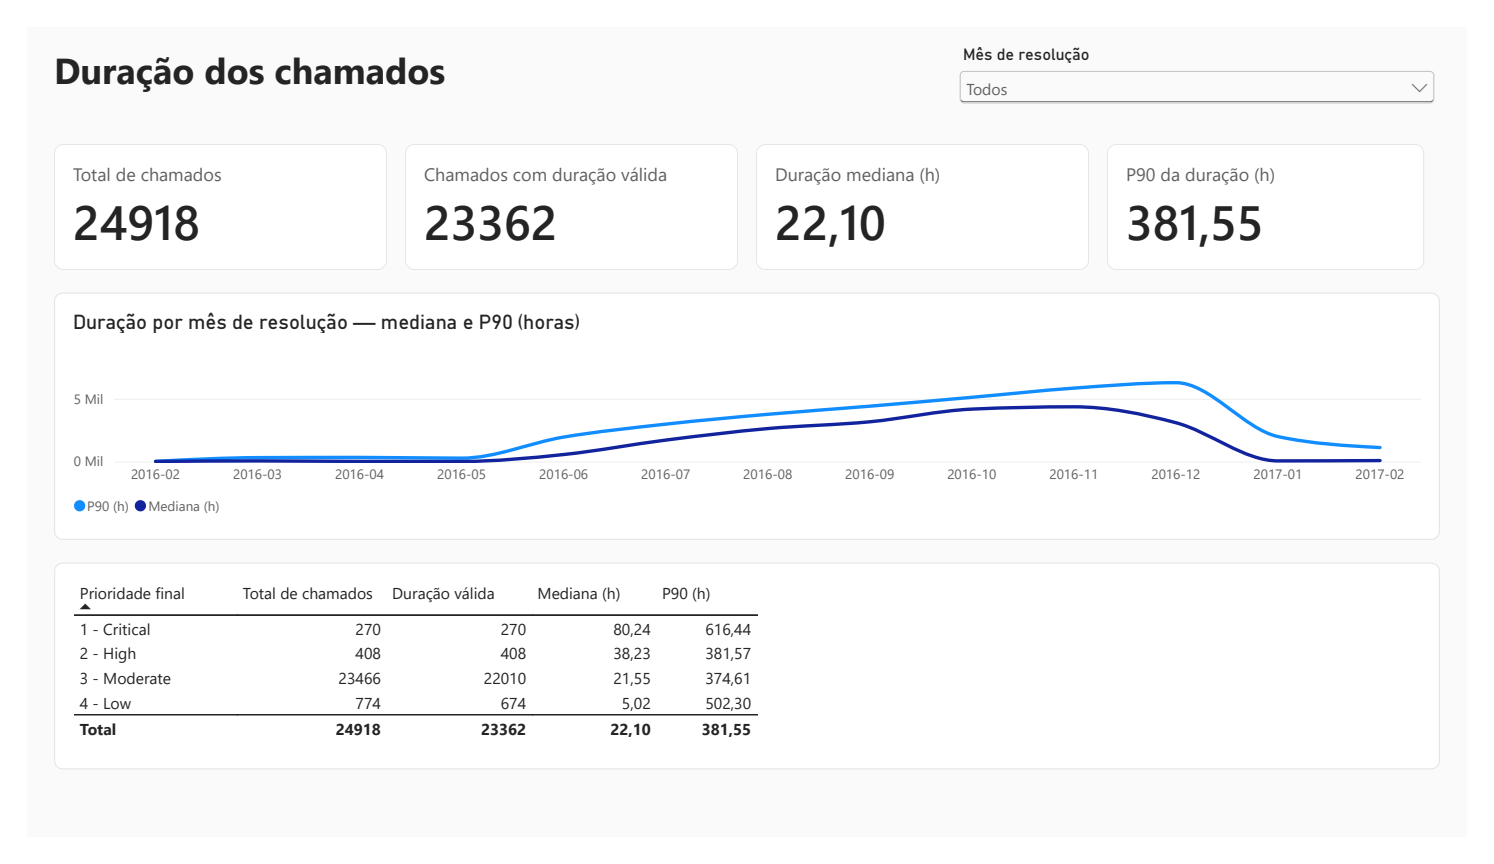

The page's visual inventory and layout, read from the dashboard file:
{"tool":"powerbi","page":{"name":"Duração","canvas":[1280,720],"ordinal":0},"visuals":[{"type":"cardVisual","fields":{"Data":["Chamados.Total de Chamados"]},"box":[24,104,296,112],"z":0},{"type":"cardVisual","fields":{"Data":["Chamados.Chamados Elegiveis Duracao"]},"box":[336,104,296,112],"z":1000},{"type":"cardVisual","fields":{"Data":["Chamados.Mediana Duracao Horas"]},"box":[648,104,296,112],"z":2000},{"type":"cardVisual","fields":{"Data":["Chamados.P90 Duracao Horas"]},"box":[960,104,282,112],"z":3000},{"type":"tableEx","fields":{"Values":["Chamados.priority_final","Chamados.Total de Chamados","Chamados.Chamados Elegiveis Duracao","Chamados.Mediana Duracao Horas","Chamados.P90 Duracao Horas"]},"box":[24,476,1232,184],"z":4000},{"type":"slicer","fields":{"Values":["Calendario.ano_mes"]},"box":[824,16,432,72],"z":5000},{"type":"lineChart","title":"Duração por mês de resolução — mediana e P90 (horas)","fields":{"Category":["Calendario.ano_mes"],"Y":["Chamados.P90 Duracao Horas","Chamados.Mediana Duracao Horas"]},"box":[24,236,1232,220],"z":6000},{"type":"textbox","box":[24,16,760,72],"z":6001}]}

Visuals, with their boxes in screenshot pixels (x1, y1, x2, y2), scaled from the page's 1280x720 canvas onto the 1494x864 screenshot:
cardVisual - Chamados.Total de Chamados: 28:125:374:259
cardVisual - Chamados.Chamados Elegiveis Duracao: 392:125:738:259
cardVisual - Chamados.Mediana Duracao Horas: 756:125:1102:259
cardVisual - Chamados.P90 Duracao Horas: 1120:125:1450:259
tableEx - Chamados.priority_final x Chamados.Total de Chamados: 28:571:1466:792
slicer - Calendario.ano_mes: 962:19:1466:106
"Duração por mês de resolução — mediana e P90 (horas)" lineChart: 28:283:1466:547
textbox: 28:19:915:106
